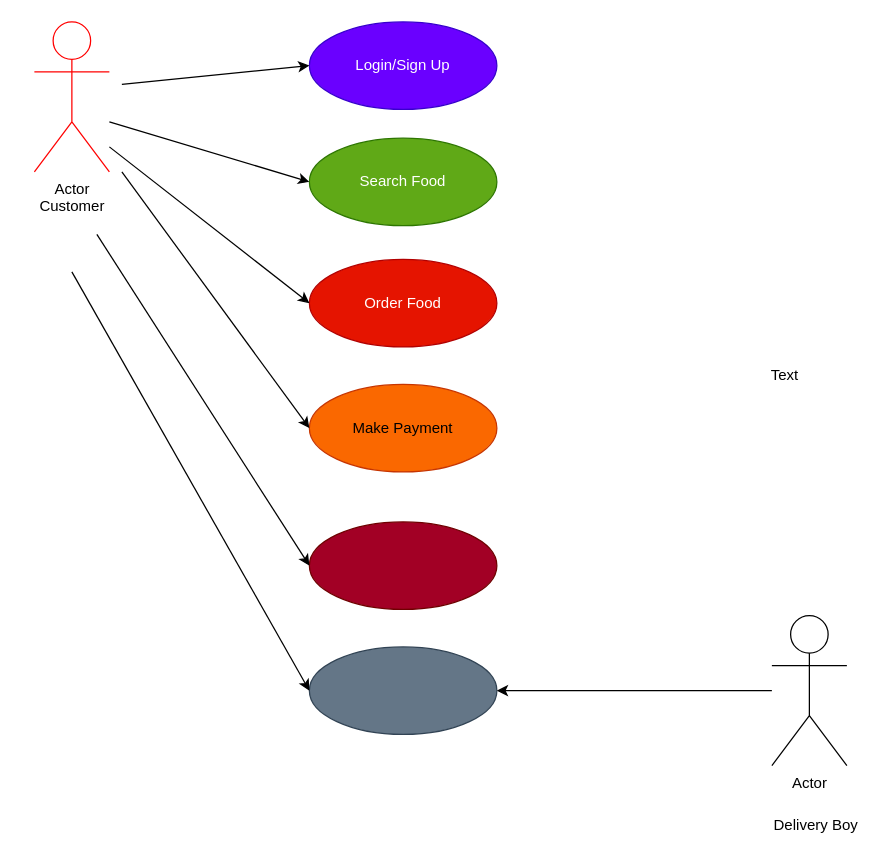
The diagram is 893 pixels wide and 866 high, and some of its shapes have lost their labels. The shapes that lost their labels are listed below. From the top down, each one's centre as x and y in pixels, then its label:
pixel 402 565: Check Status
pixel 402 690: Receive/Delivery Food
